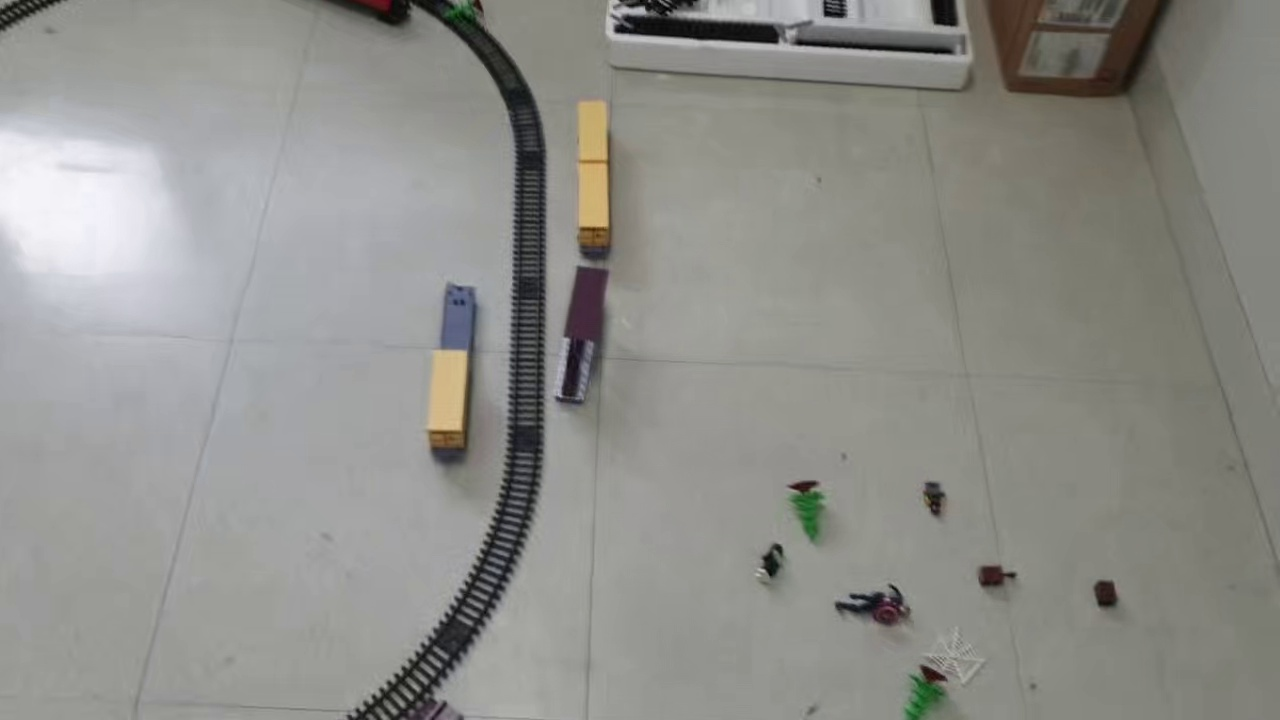box: (970, 566, 1023, 592), (1092, 577, 1119, 609)
people: (831, 582, 913, 628), (758, 542, 790, 587), (922, 480, 948, 519)
tree: (897, 664, 950, 720), (786, 478, 826, 548), (441, 1, 486, 24)
web: (919, 625, 986, 687)
